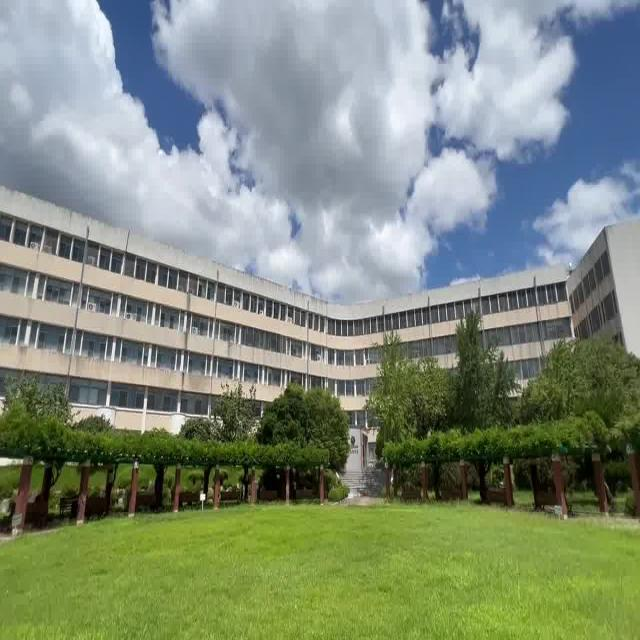building: (1, 198, 373, 388)
